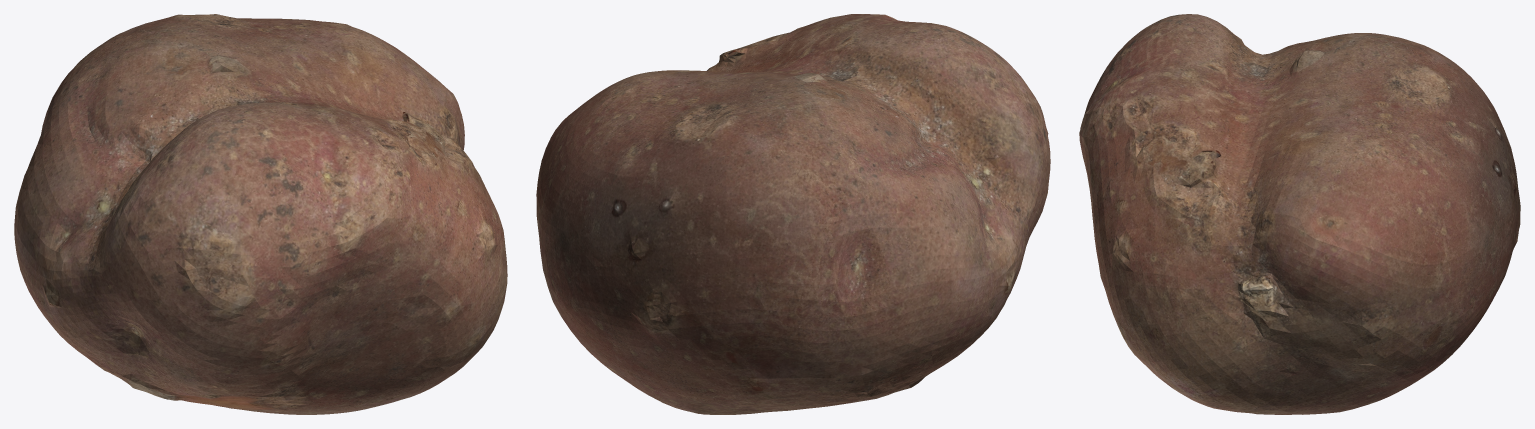
3 views of the same model, side by side, from view 1: azimuth 30°, elevation 25°; view 2: azimuth 150°, elevation 25°; view 3: azimuth 270°, elevation 25° (orthographic). The views are drawn at different scales.
Parts seen in each view (by area): view 1: world; view 2: world; view 3: world.
Part boxes in pixels (x1,y1,x2,y2): world: (14,14,507,414); world: (536,14,1050,414); world: (1079,14,1520,414).
Bounding box in the file's own units: 0.04 × 0.0316 × 0.039.
Materials: 1 (1 with a texture image).
